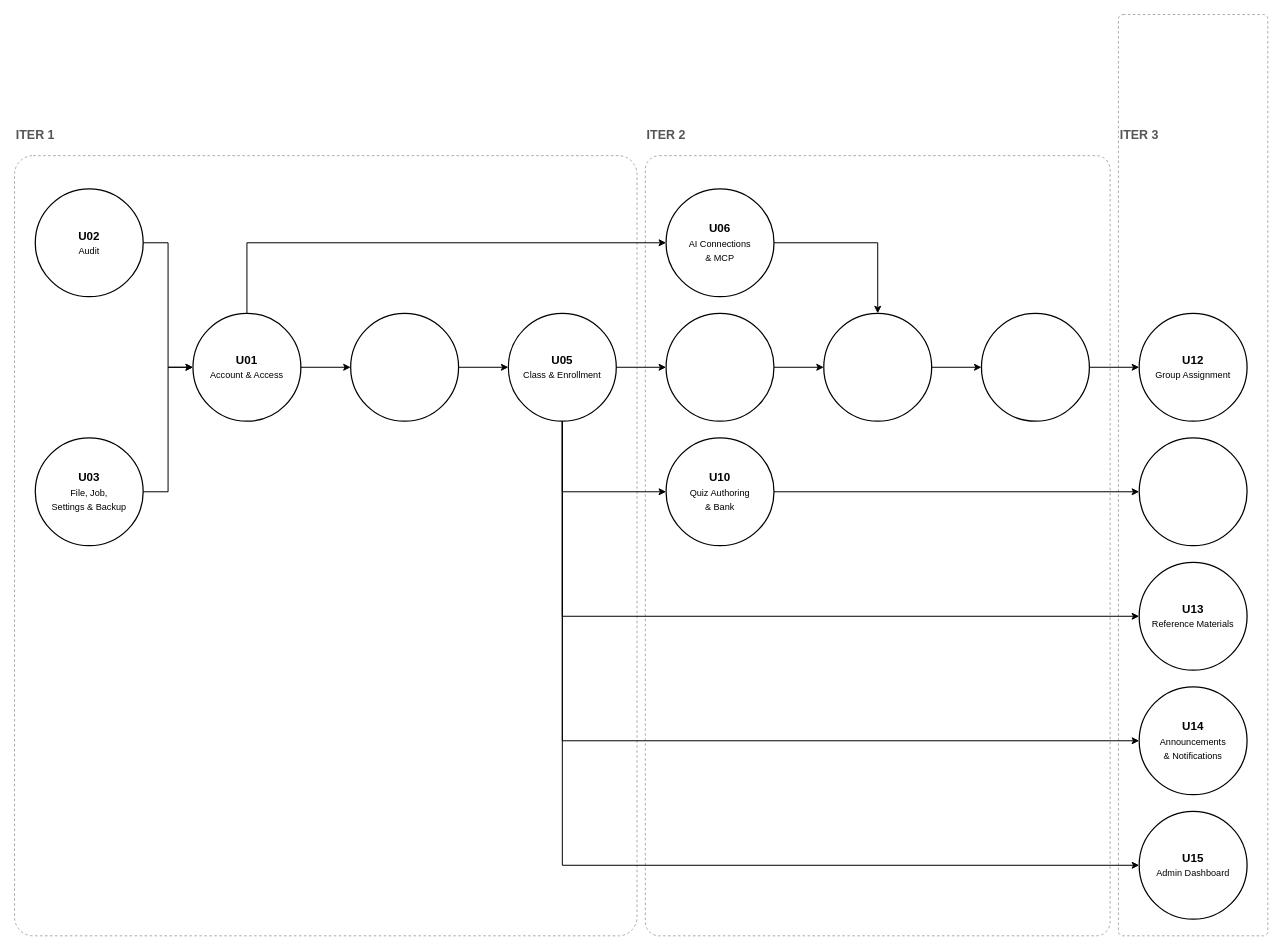
Image size: 1282x950. Some labels were removed from this diagram. The shapes that lost their labels are listed below. From the top down, each one's centre as x and y in pixels, then its label:
At pixel 404 366: "U04 Subject Administration".
At pixel 719 366: "U07 Assignment Authoring".
At pixel 877 366: "U08 Assignment Work".
At pixel 1035 366: "U09 Assignment Grading & Gradebook".
At pixel 1192 491: "U11 Quiz Practice".
